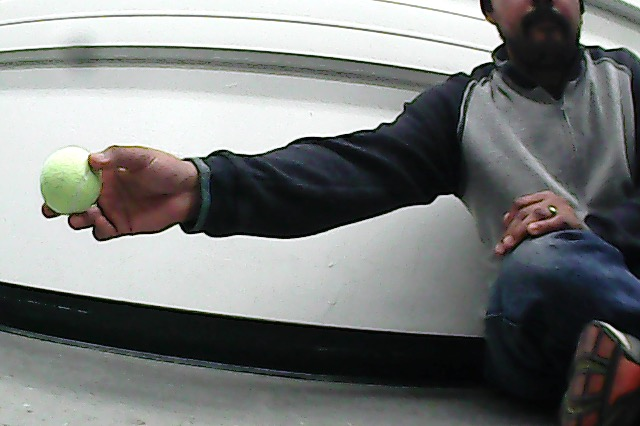ball: (36, 144, 106, 218)
